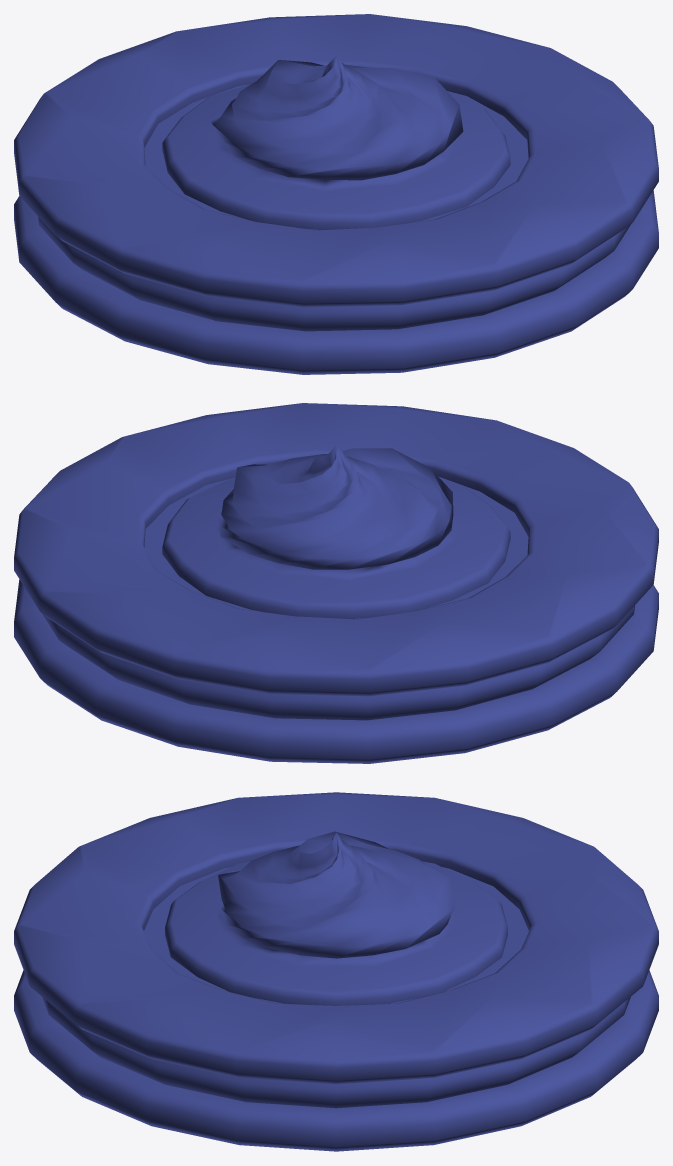
The model's file is Biscuit.fbx.
The picture shows the model from 3 angles, top to bottom: view 1: azimuth 30°, elevation 25°; view 2: azimuth 150°, elevation 25°; view 3: azimuth 270°, elevation 25°; orthographic projection.
Visible parts, largest first — view 1: Biscuit; view 2: Biscuit; view 3: Biscuit.
Part boxes in pixels (x1,y1,x2,y2): Biscuit: (14, 14, 658, 374); Biscuit: (14, 403, 658, 763); Biscuit: (14, 792, 658, 1151).
Bounding box in the file's own units: 15.43 × 4.91 × 15.43.
